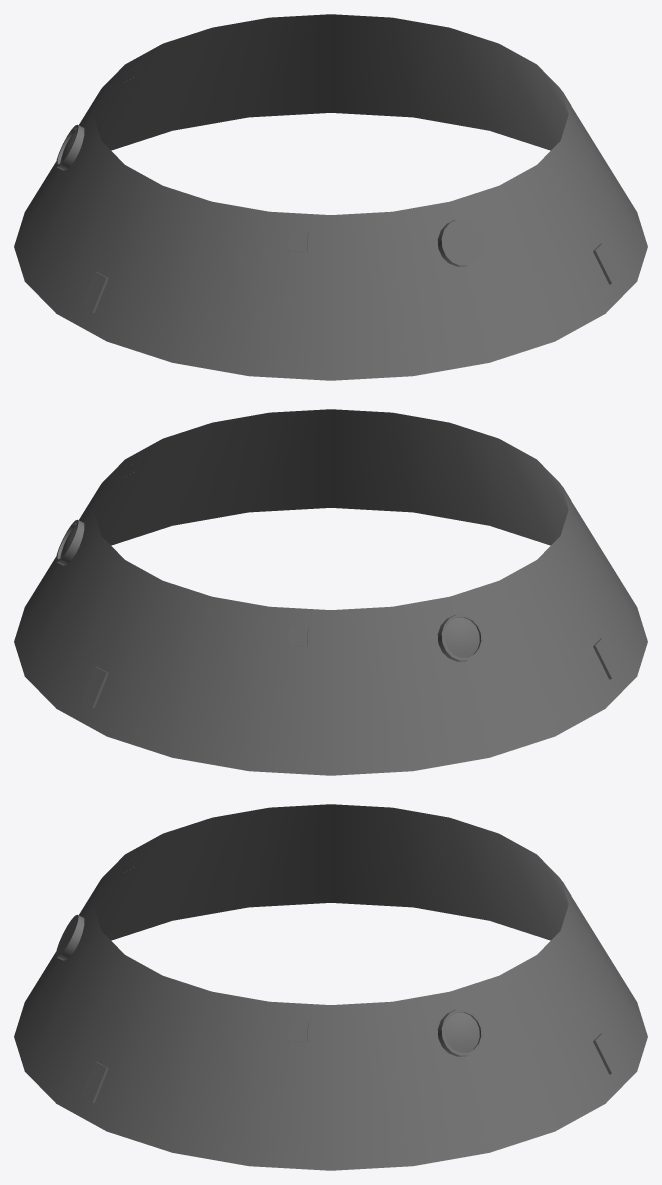
Rendered from alnair_crew_s2_1.obj.
3 views of the same model, one above another, from view 1: azimuth 30°, elevation 25°; view 2: azimuth 150°, elevation 25°; view 3: azimuth 270°, elevation 25° (orthographic).
Parts seen in each view (by area): view 1: mesh1; view 2: mesh1, windows1; view 3: mesh1, windows1.
Part boxes in pixels (x1=…): mesh1: x1=14, y1=14, x2=647, y2=380; mesh1: x1=14, y1=409, x2=647, y2=775; windows1: x1=60, y1=525, x2=479, y2=657; mesh1: x1=14, y1=804, x2=647, y2=1170; windows1: x1=444, y1=1012, x2=479, y2=1052.
Size of the model in its own units: 2.5 by 0.575 by 2.5.
2 materials, 2 textured.
